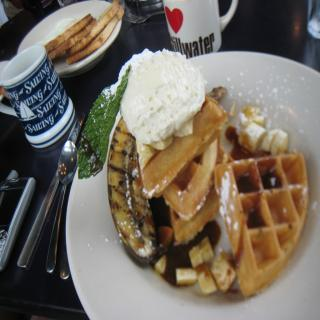Waffle: (214, 152, 301, 298), (135, 92, 229, 198), (168, 144, 235, 248), (163, 136, 220, 222)
